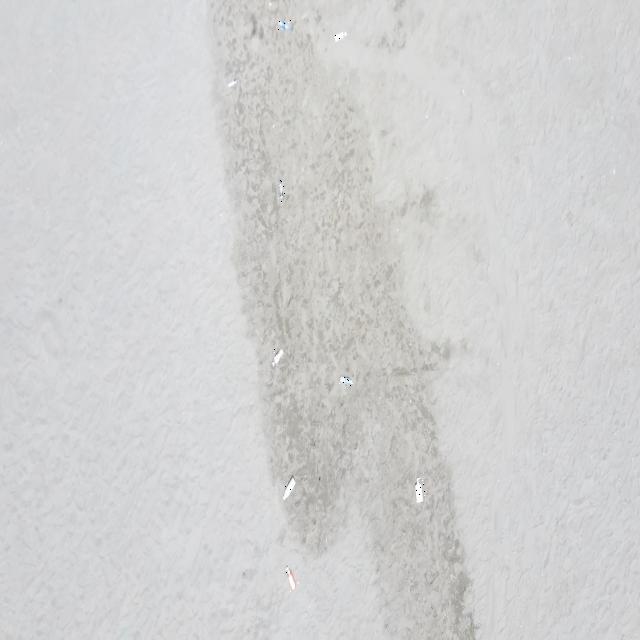plastic-bottle: (284, 475, 298, 501), (285, 565, 297, 592), (416, 477, 425, 504), (272, 348, 284, 368), (333, 30, 347, 44), (226, 76, 239, 89), (278, 20, 292, 32), (278, 178, 285, 202), (339, 376, 353, 386)
